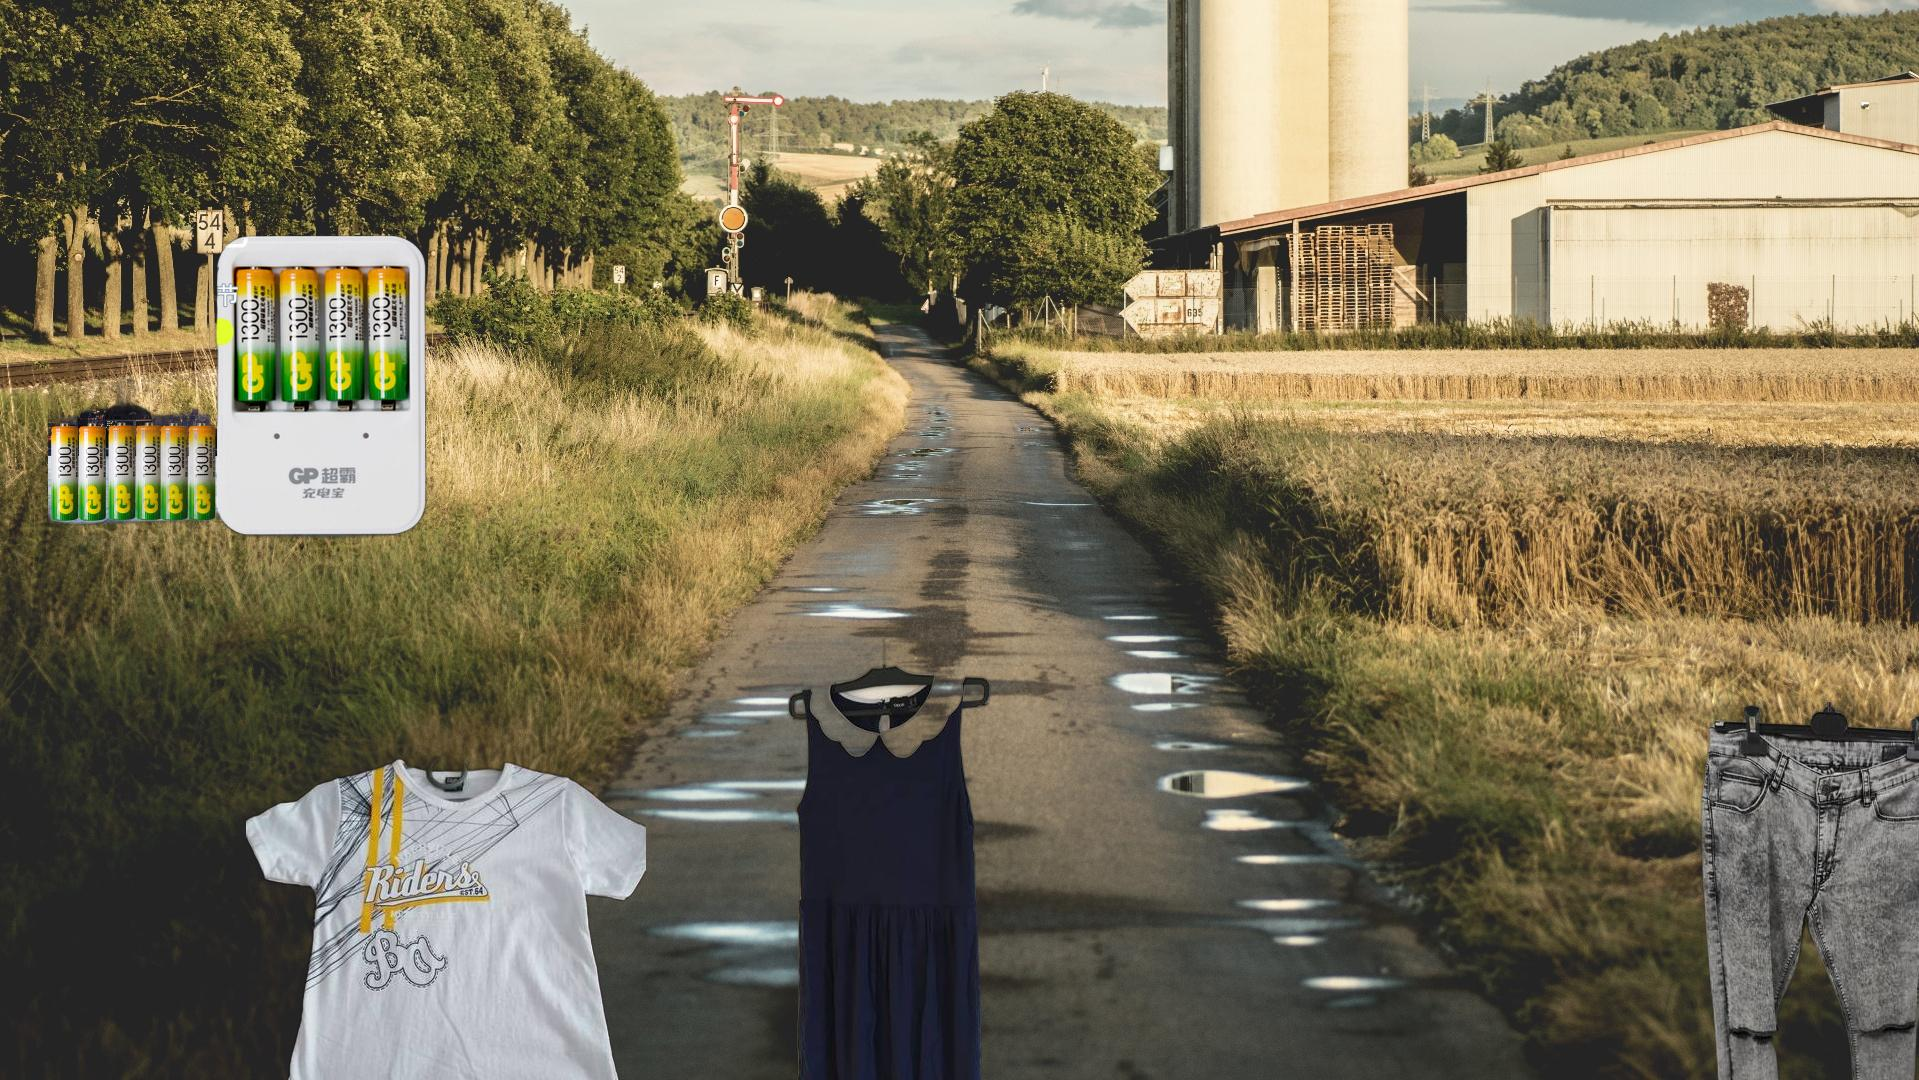battery: (47, 232, 430, 541)
clothes: (246, 752, 646, 1080), (784, 638, 994, 1080), (1698, 702, 1919, 1080)
